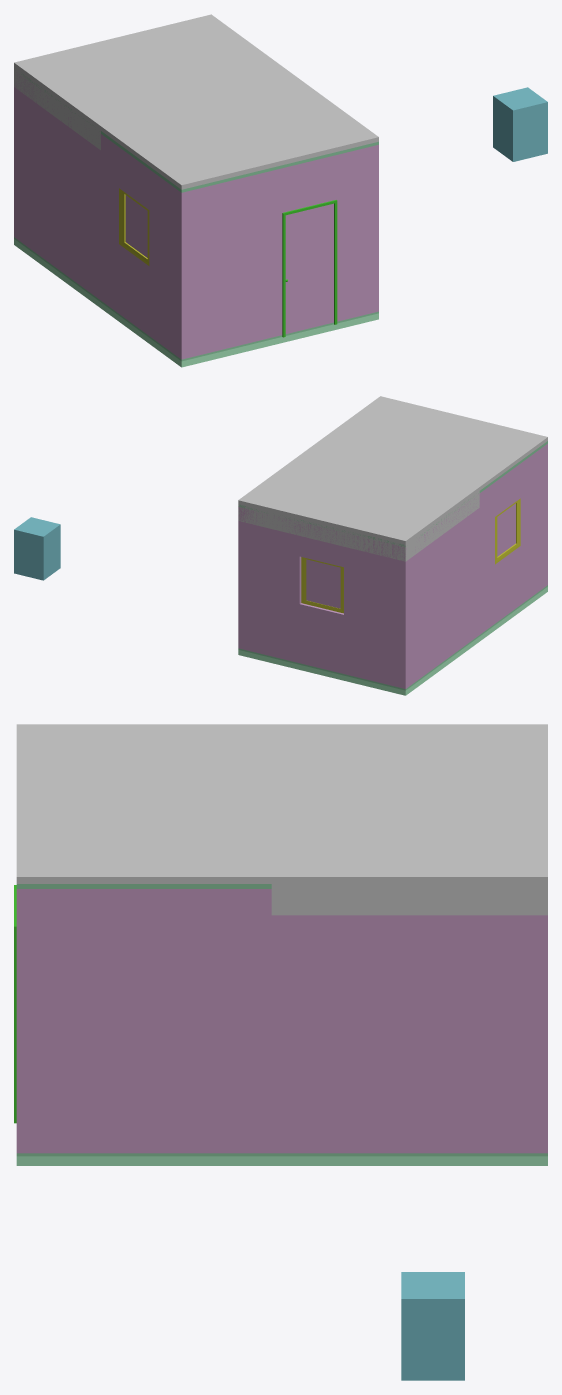
The model's file is FloorPlan17_physics.fbx.
3 renders of one model, top to bottom at view 1: azimuth 30°, elevation 25°; view 2: azimuth 150°, elevation 25°; view 3: azimuth 270°, elevation 25°, orthographic. The views are drawn at different scales.
Parts seen in each view (by area): view 1: StandardWallSize, Ceiling, StandardDishwasherSize1, Floor, StandardDoorFrame1, WindowPane1, StandardWindow1 (2); view 2: StandardWallSize, Ceiling, StandardDishwasherSize1, Floor, WindowPane2, WindowPane1, StandardWindow1, StandardWindow1 (2); view 3: StandardWallSize, Ceiling, StandardDishwasherSize1, Floor.
Part boxes in pixels (x1,y1,x2,y2): StandardWallSize: (14, 72, 378, 361); Ceiling: (14, 14, 378, 189); StandardDishwasherSize1: (493, 87, 547, 161); Floor: (14, 239, 378, 367); StandardDoorFrame1: (282, 200, 337, 337); WindowPane1: (125, 195, 147, 257); StandardWindow1 (2): (122, 191, 149, 263); StandardWallSize: (238, 441, 547, 690); Ceiling: (238, 396, 547, 561); StandardDishwasherSize1: (14, 517, 60, 580); Floor: (238, 587, 547, 695); WindowPane2: (306, 559, 340, 608); WindowPane1: (497, 503, 515, 556); StandardWindow1: (303, 557, 342, 611); StandardWindow1 (2): (495, 500, 518, 561); StandardWallSize: (16, 884, 547, 1156); Ceiling: (16, 724, 547, 915); StandardDishwasherSize1: (401, 1272, 464, 1380); Floor: (16, 1155, 547, 1165).
Bounding box in the file's own units: 840 × 300 × 502.
